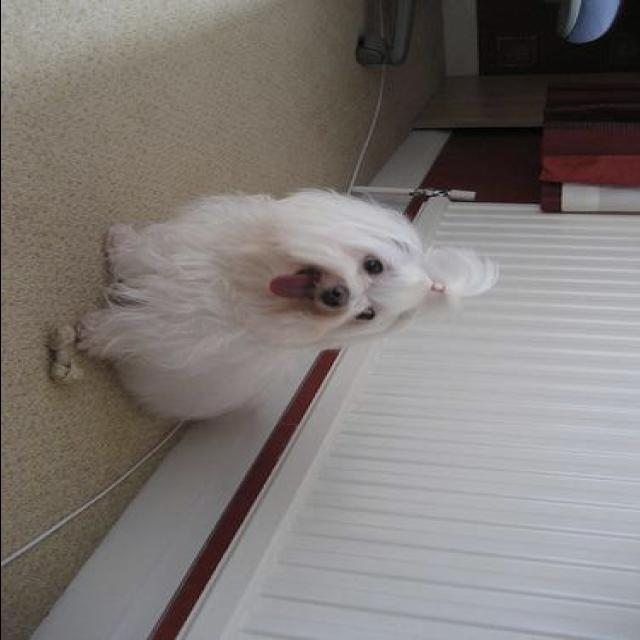maltese_dog: (75, 183, 500, 420)
